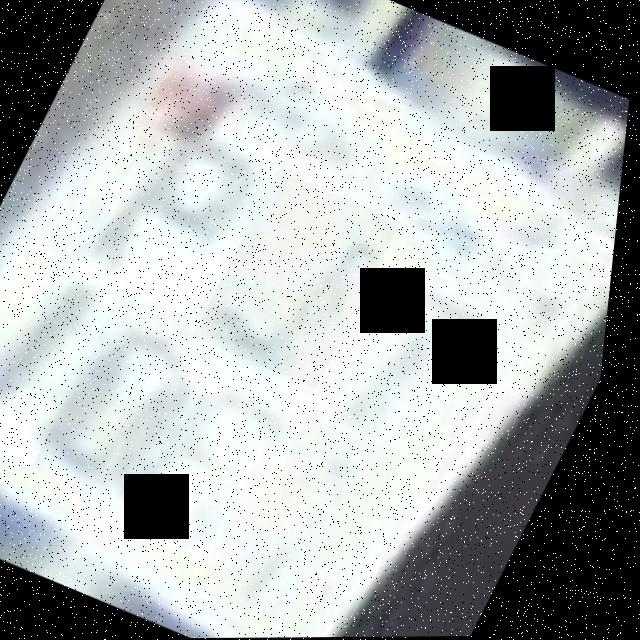0: (4, 277, 247, 523)
1: (0, 237, 135, 468)
3: (88, 336, 330, 573)
7: (202, 406, 419, 639)
J: (195, 170, 409, 390)
P: (80, 104, 283, 320)
